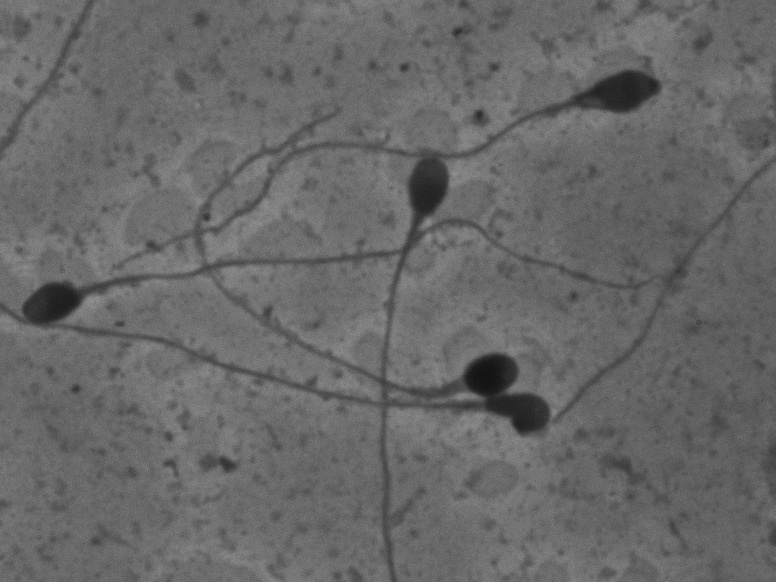Abnormal: (108, 58, 669, 275), (17, 209, 673, 340), (68, 314, 561, 449)
Normal: (184, 90, 527, 403), (372, 154, 460, 569)
